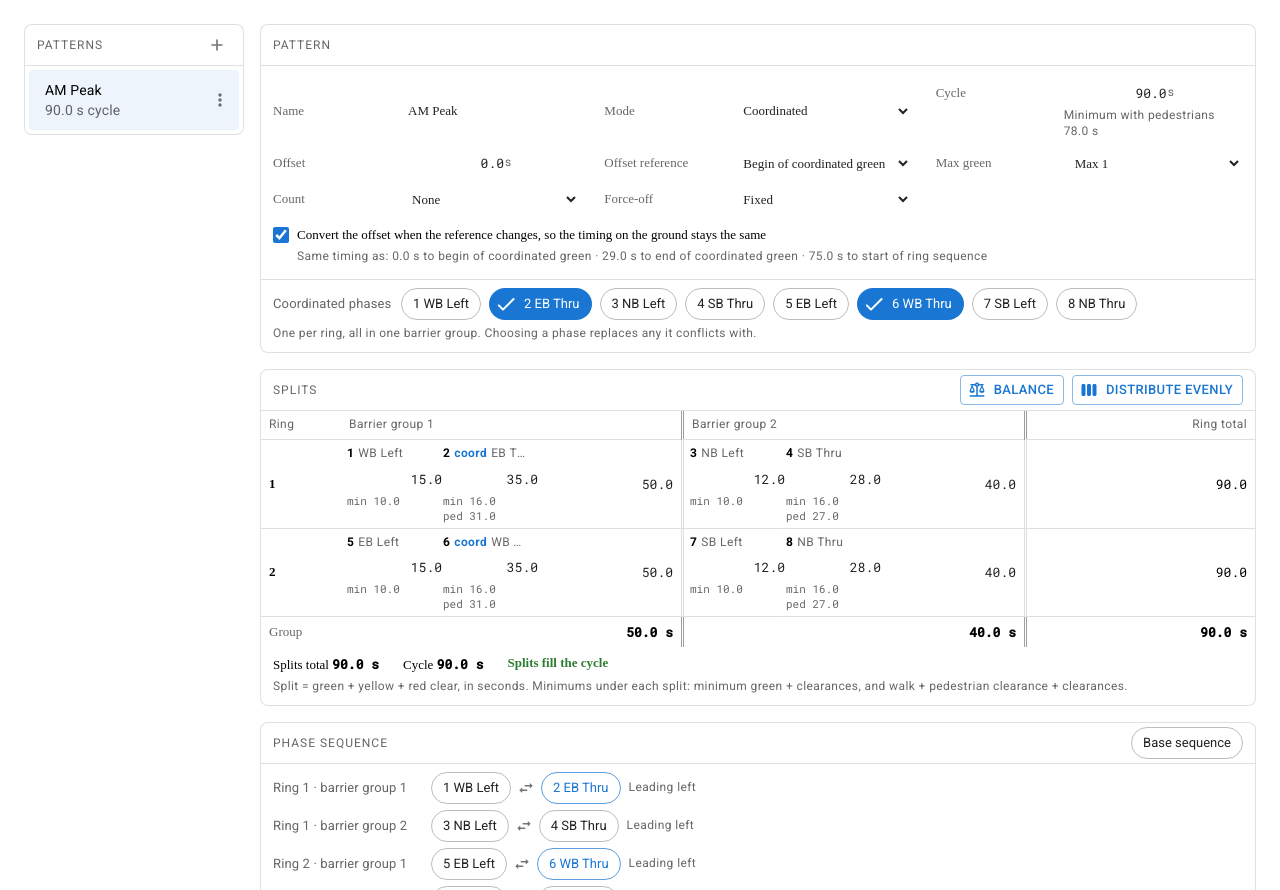
Test case: PatternsTab › disables the split grid in free mode
Select "Free" in the dropdown labelled "Mode" at point(822, 111), box x1=732 y1=97 x2=912 y2=125
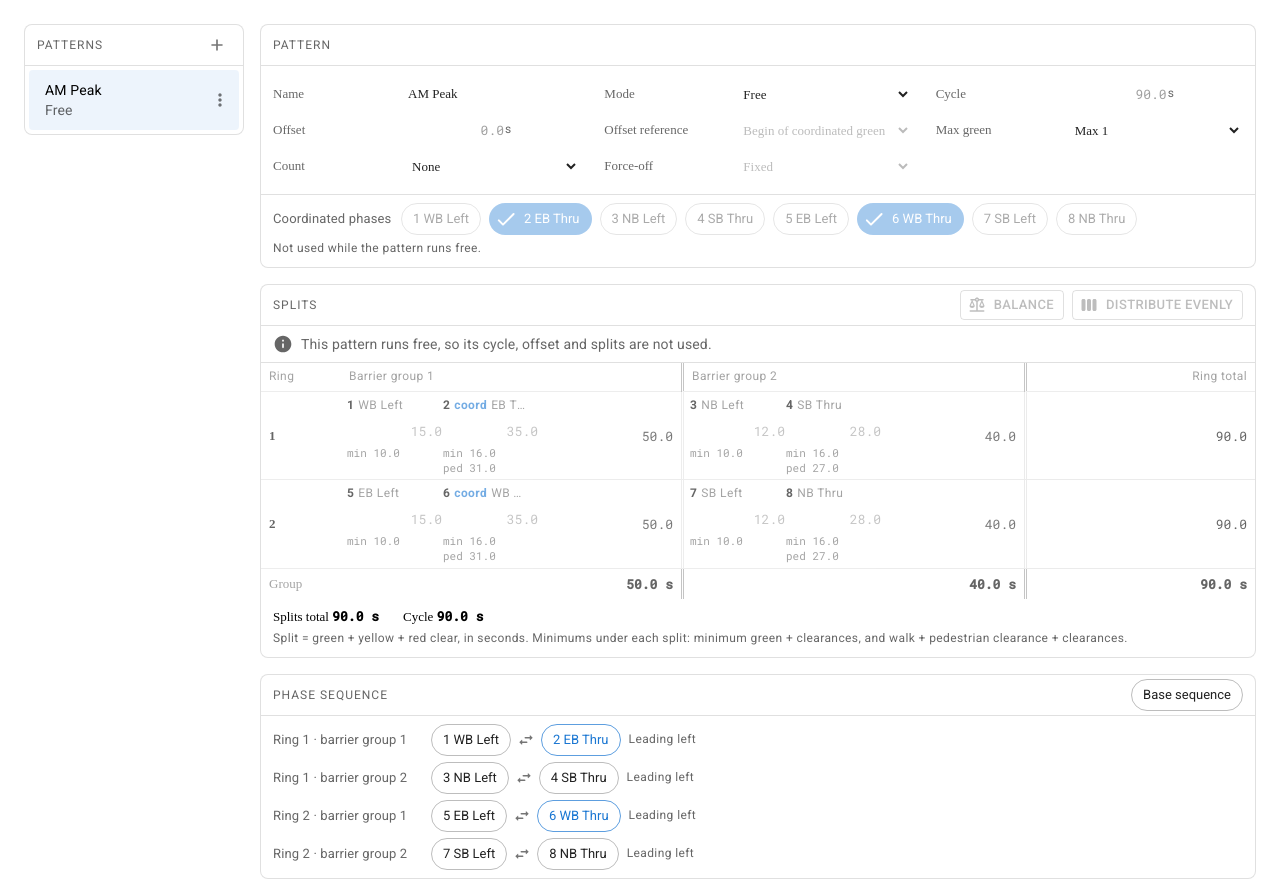
Result: the text "This pattern runs free, so its cycle, offset and splits are not used." is shown at x1=301 y1=334 x2=712 y2=354
Result: the field named "Split, phase 2" is disabled at x1=439 y1=416 x2=545 y2=446
